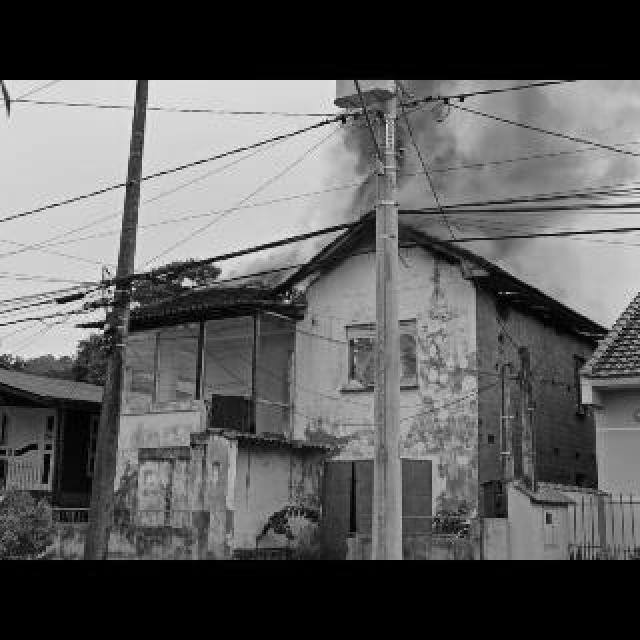Fire: (238, 214, 332, 306), (348, 336, 378, 380), (350, 172, 376, 222), (284, 350, 296, 432), (398, 332, 416, 380), (490, 256, 518, 272)
Smoke: (318, 89, 604, 243)
